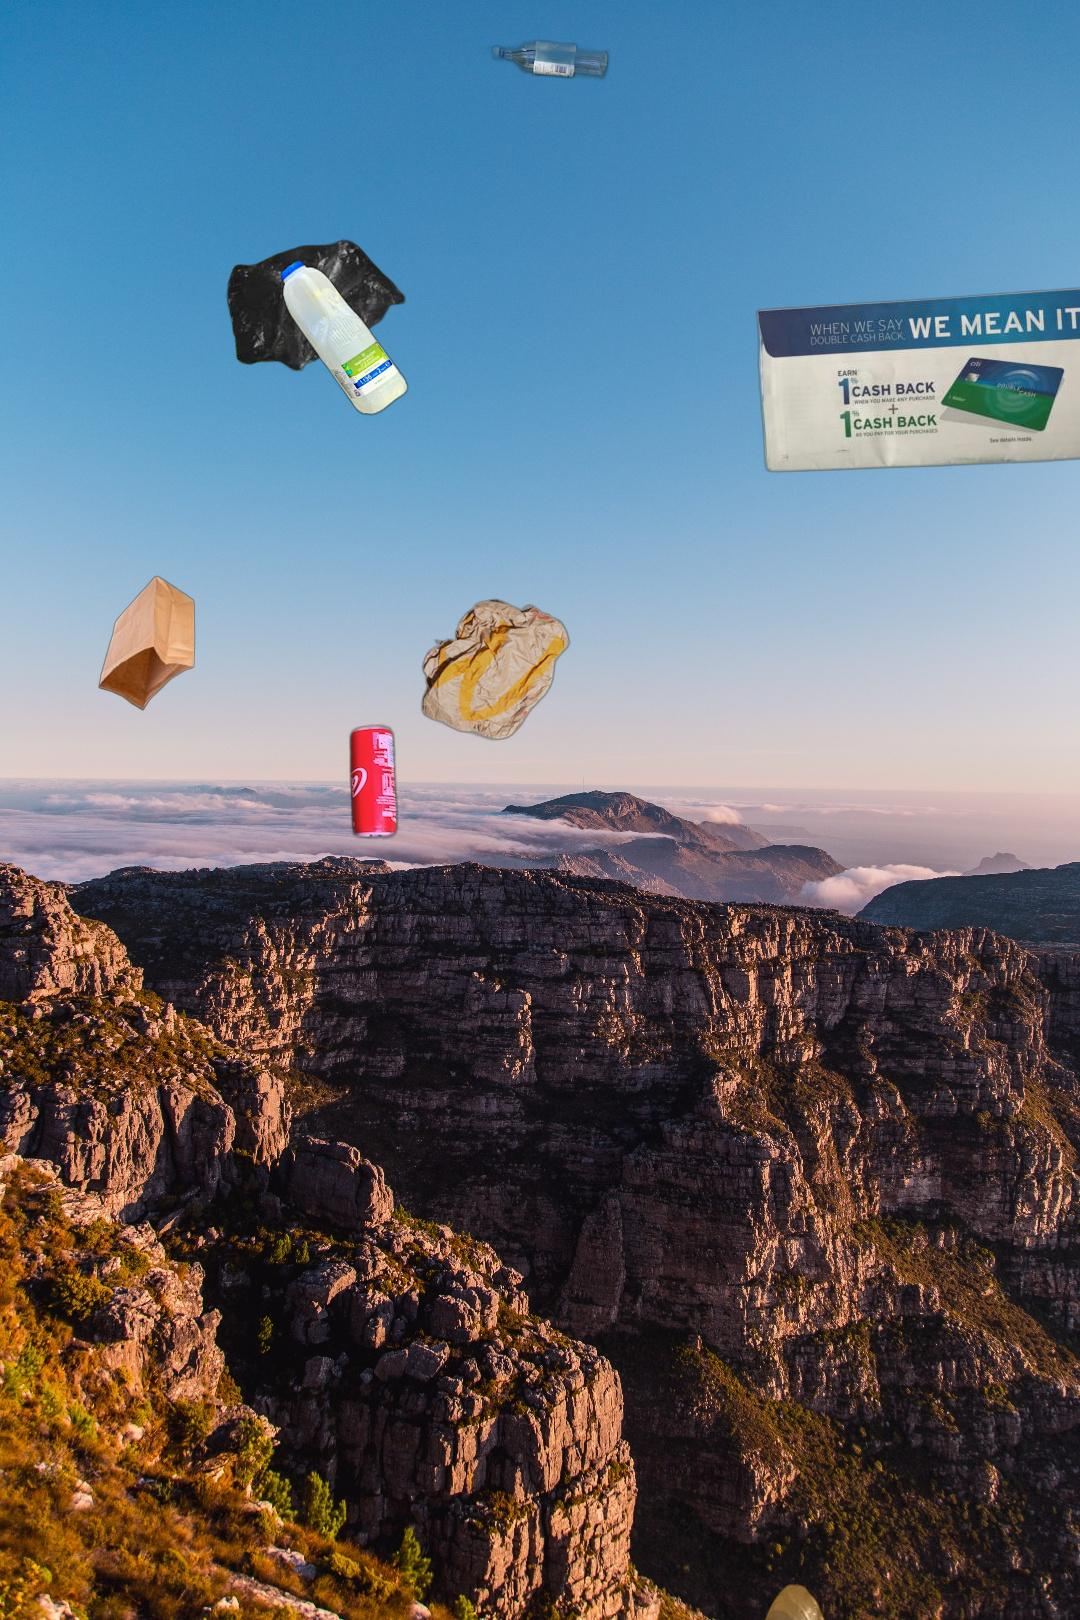glass: (477, 34, 614, 84)
metal-cans: (346, 720, 401, 844)
paper: (752, 283, 1080, 475)
paper-bag: (419, 597, 573, 742), (96, 573, 198, 714)
plastic-bag: (224, 237, 407, 374)
plastic-bottles: (276, 256, 412, 421), (626, 1580, 833, 1620)
